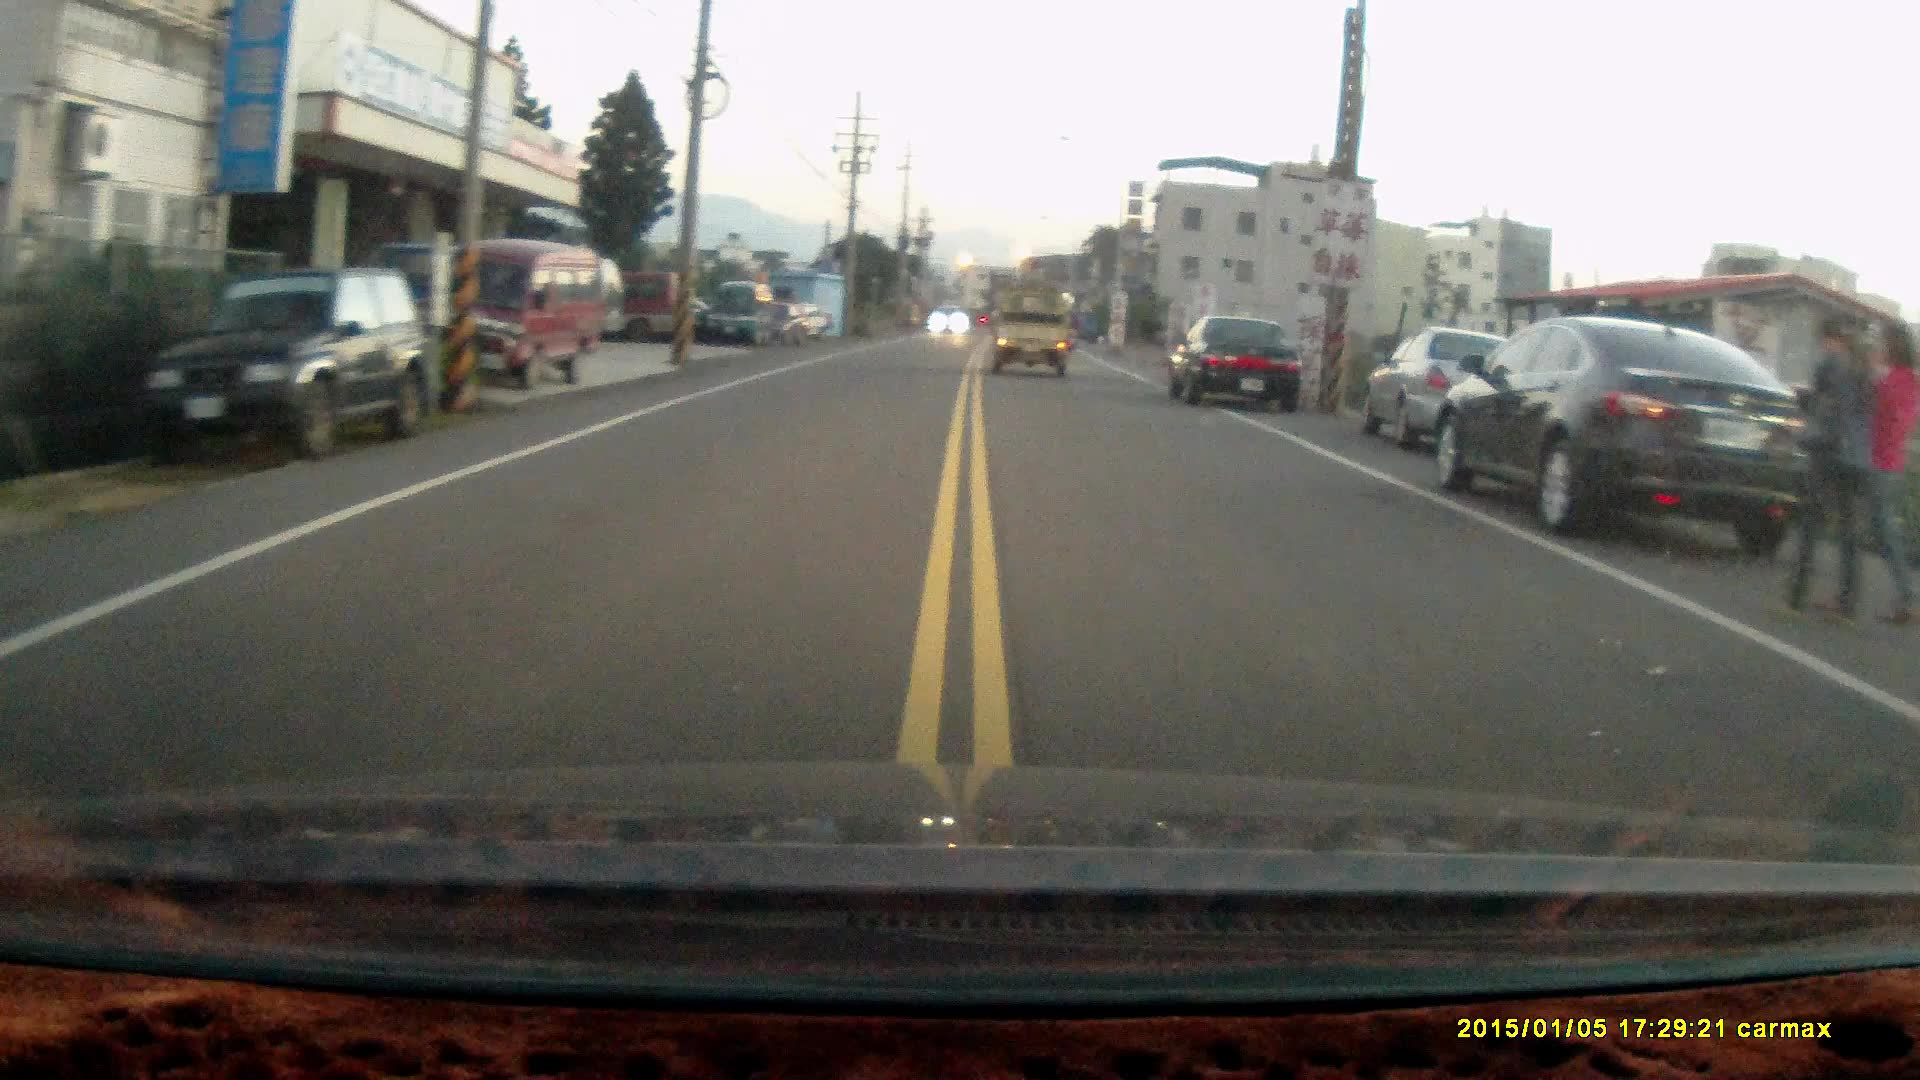pedestrian: (1771, 319, 1868, 631), (1838, 319, 1911, 626)
vehicle: (1433, 320, 1848, 560), (148, 269, 432, 466), (417, 244, 615, 387), (1357, 329, 1525, 459), (1163, 311, 1308, 414), (995, 292, 1077, 380), (706, 283, 778, 349)
